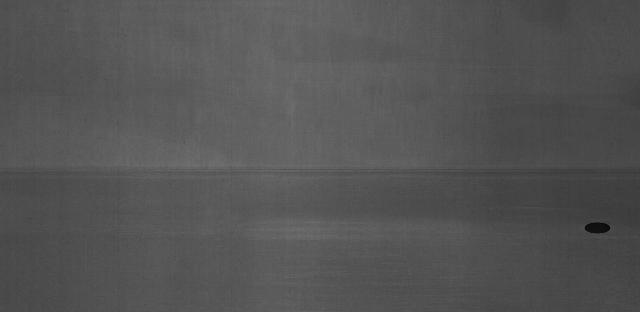punching_hole: (581, 218, 614, 238)
welding_line: (7, 152, 636, 186)
